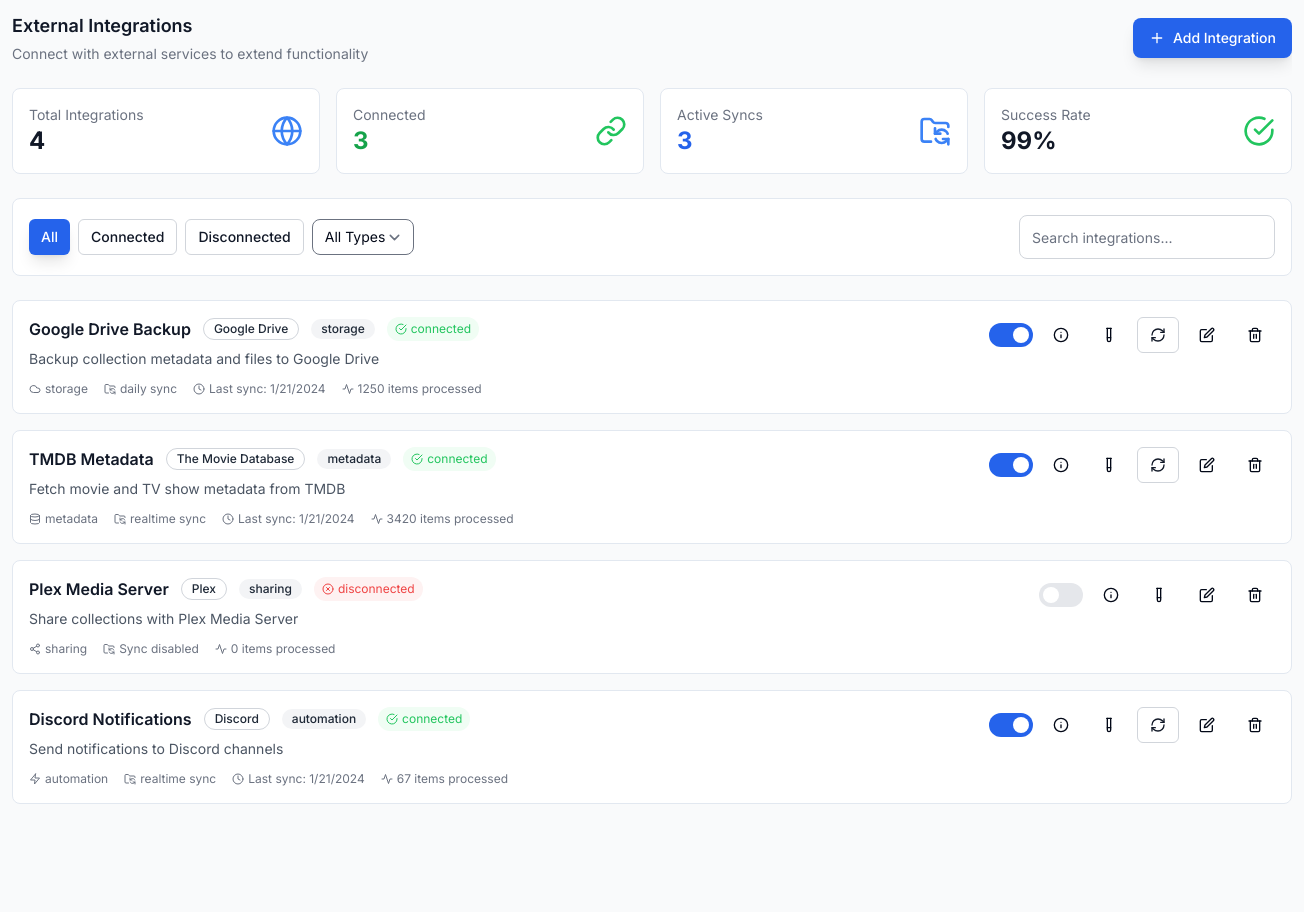
ExternalIntegrations › filters by type
Select "Storage" in the dropdown showing "All Types" at [363, 237], box [312,219,414,255]
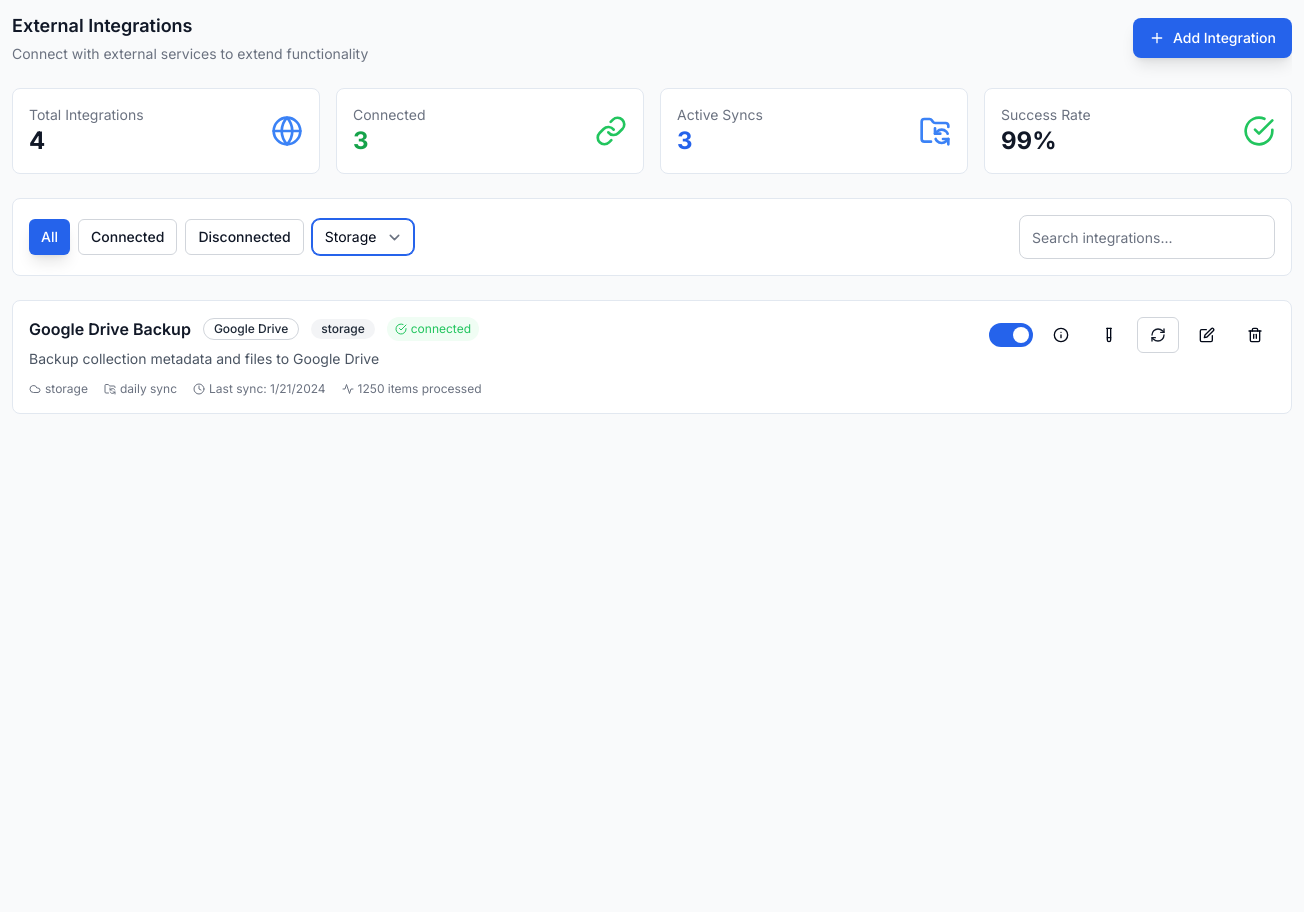
Expected: the heading "Google Drive Backup" is shown, [29,317,191,341]
Now the heading "TMDB Metadata" is gone
